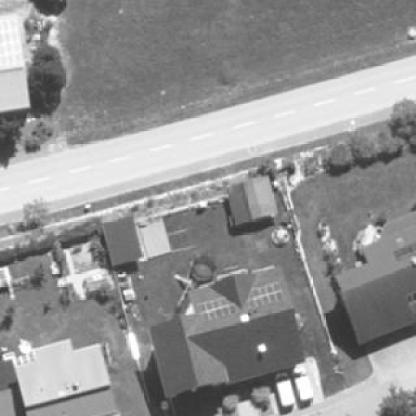solar-pv-panel: (200, 283, 283, 322), (0, 19, 19, 65)
